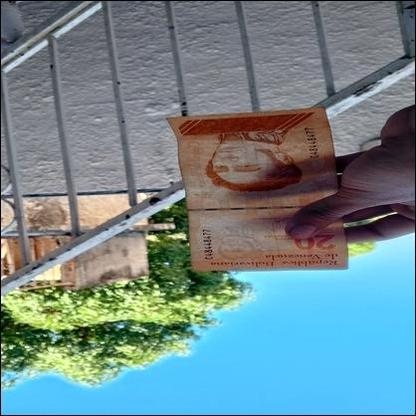twenty-front-vef: (164, 106, 348, 272)
